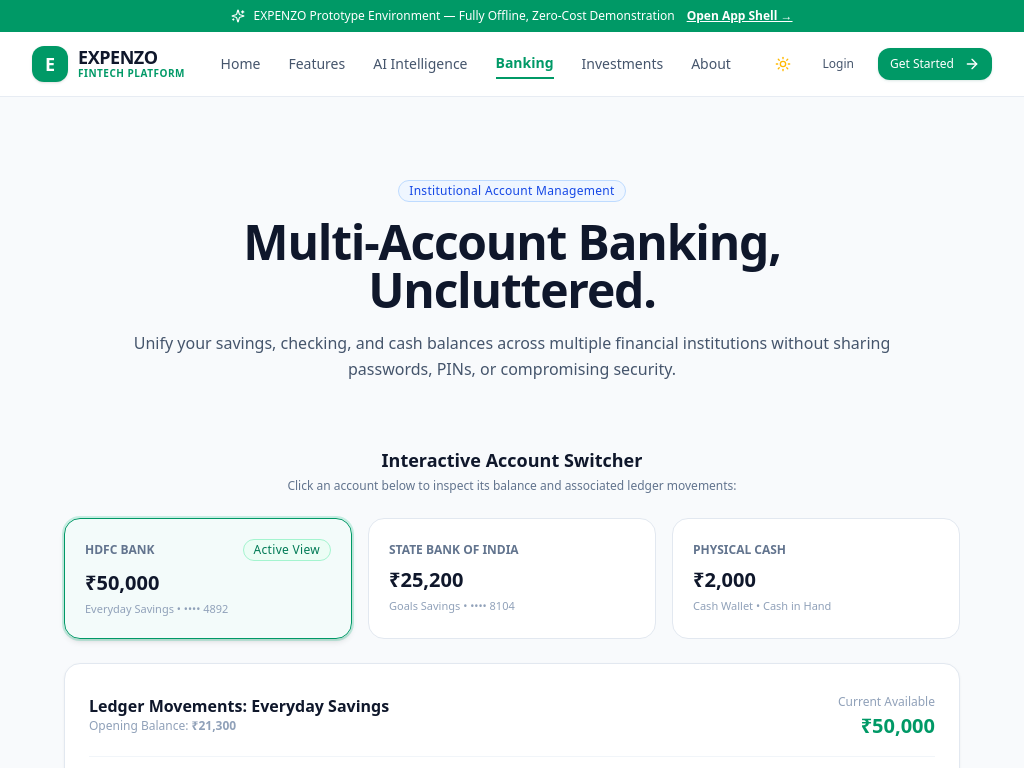
Test: Phase 2 Public Marketing Website Tests › renders Banking Info page with functional demo account switcher
Expected: the heading "Multi-Account Banking, Uncluttered." is shown, 243,209 -> 781,322
Expected: the heading "Interactive Account Switcher" is shown, 382,448 -> 642,472
Switch to SBI Goals Savings
Click the button "State Bank of India ₹25,200 Goals Savings • •••• 8104" at {"x": 454, "y": 550}, box 368,518 -> 656,638
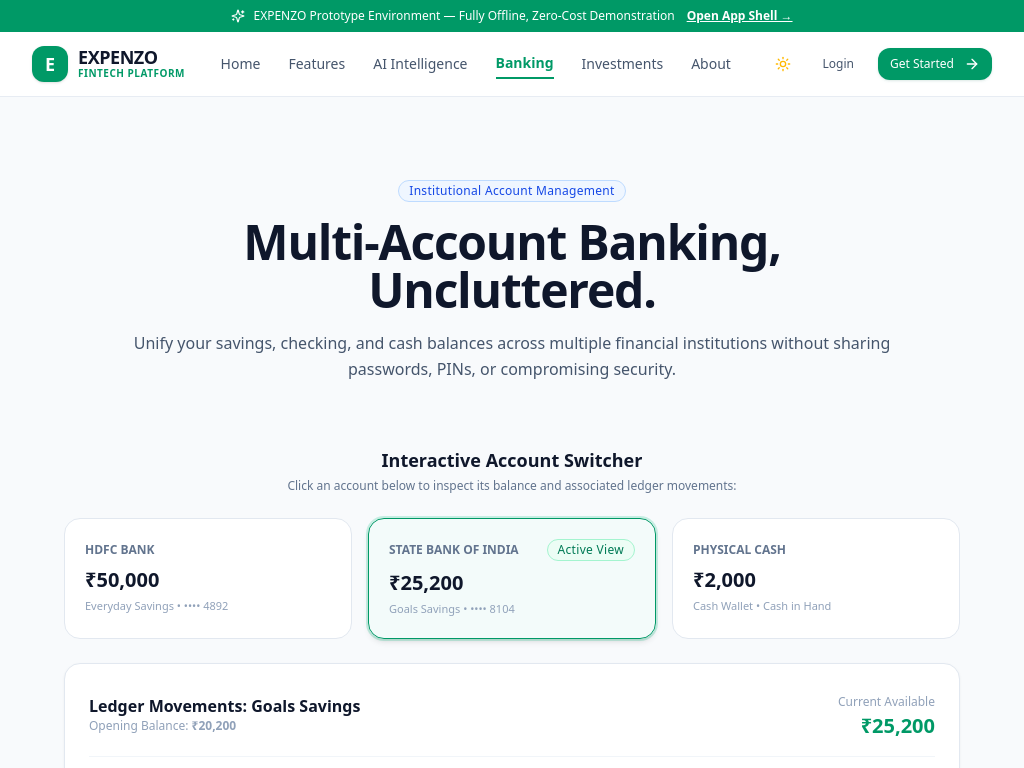
Expected: the heading "Ledger Movements: Goals Savings" is shown, 89,694 -> 360,718
